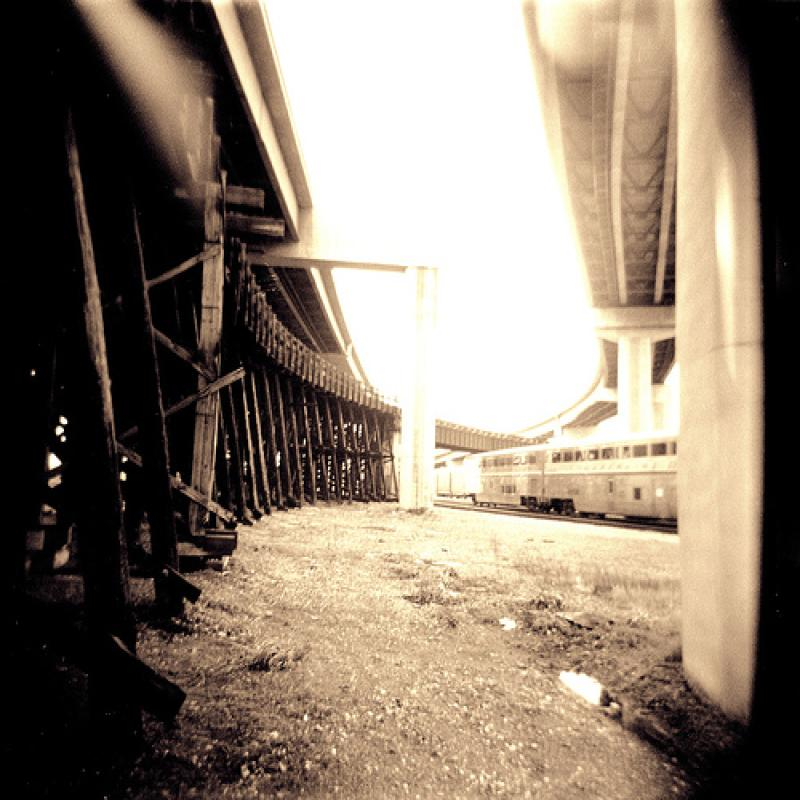train: (438, 432, 678, 526)
